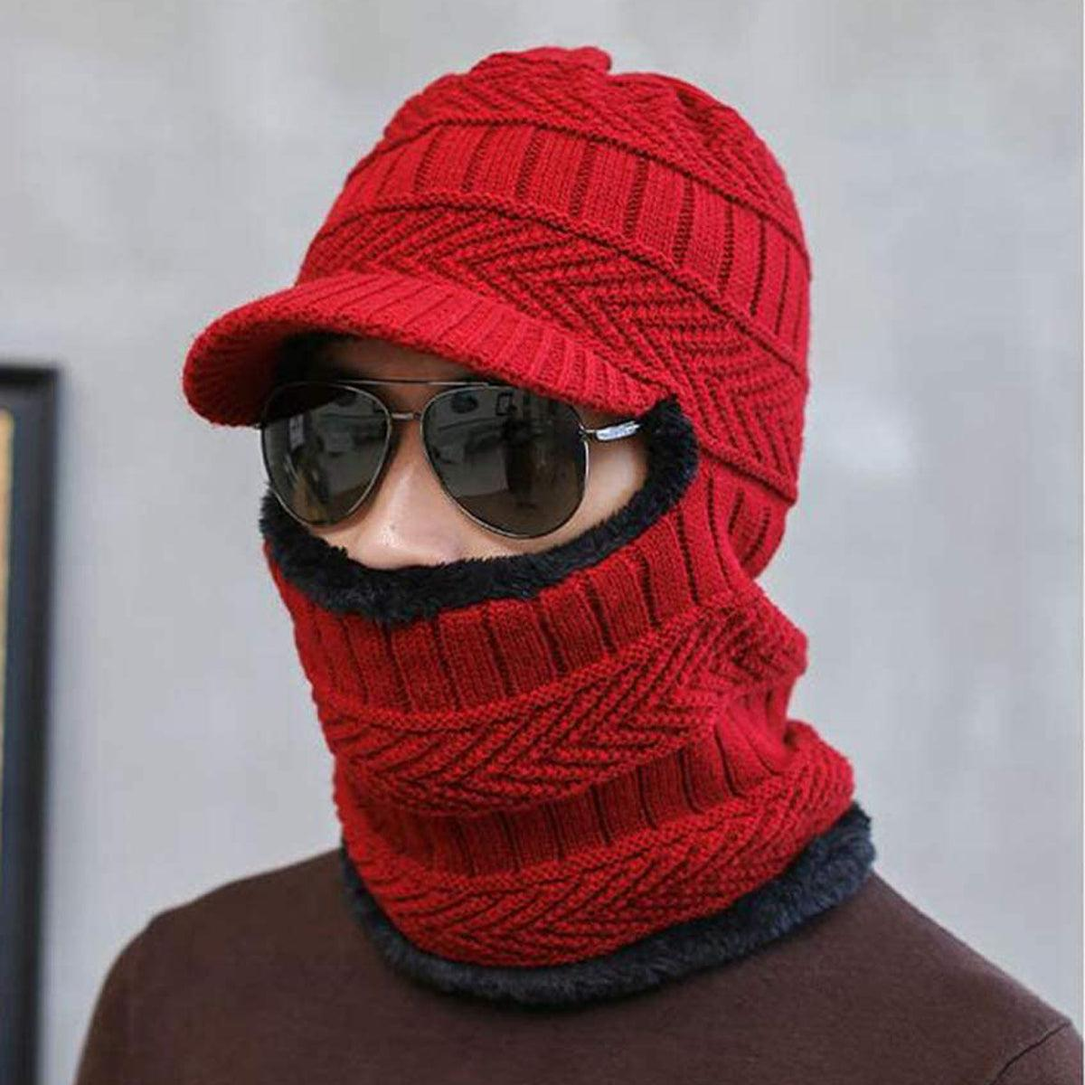cap: (163, 0, 871, 485)
scarf-kerchief: (235, 464, 997, 1006)
sunglasses: (184, 364, 636, 554)
